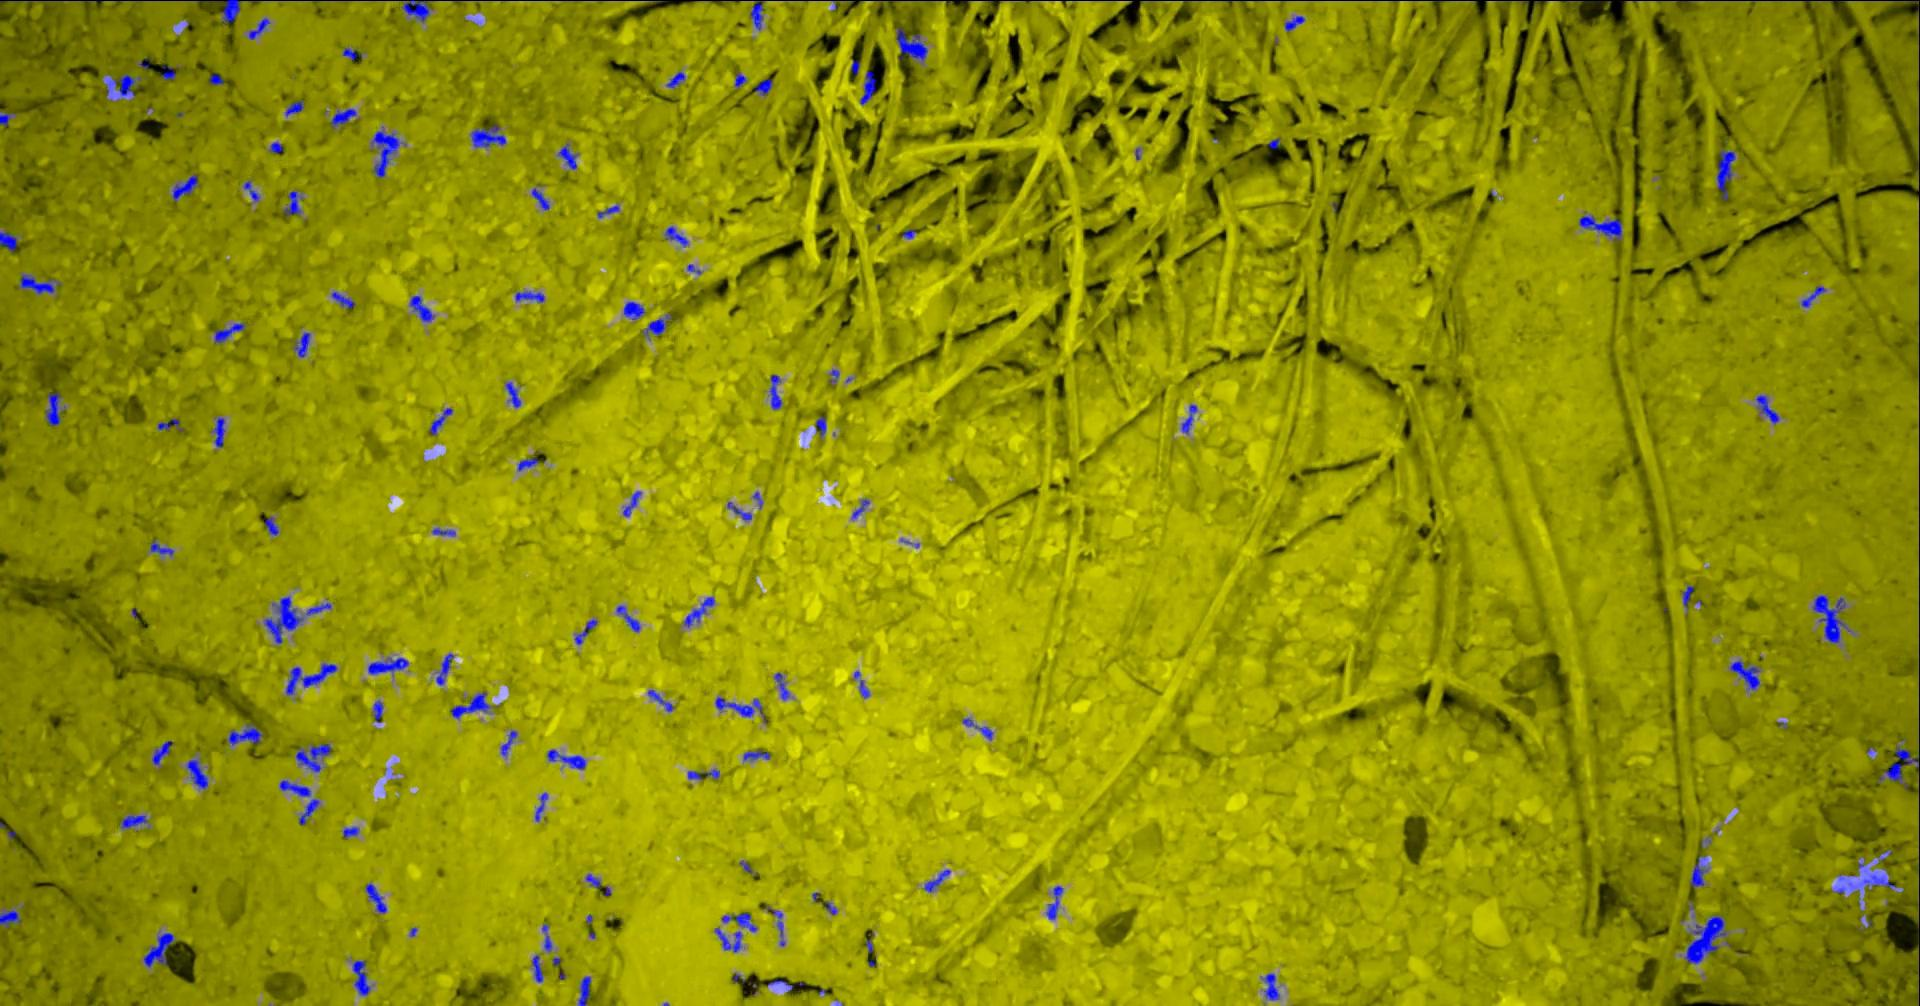ant: (1686, 915, 1728, 963), (265, 596, 305, 643), (373, 126, 408, 177), (1815, 594, 1851, 641), (1879, 746, 1920, 788), (287, 662, 338, 694), (1580, 215, 1623, 240), (897, 27, 930, 60), (452, 691, 491, 718), (145, 932, 175, 967), (684, 596, 716, 627), (297, 743, 333, 771), (197, 0, 243, 22), (1718, 149, 1737, 199), (717, 696, 764, 716), (1731, 661, 1761, 690), (107, 72, 142, 97), (472, 124, 507, 147), (230, 724, 264, 746), (1757, 394, 1782, 424), (549, 749, 587, 768), (370, 657, 410, 674), (173, 174, 199, 201), (964, 716, 994, 739), (403, 0, 434, 22), (20, 274, 56, 293), (723, 912, 758, 931), (430, 406, 455, 434), (367, 883, 389, 913), (47, 391, 66, 426), (411, 295, 436, 321), (617, 605, 641, 631), (716, 927, 743, 951), (354, 959, 372, 995), (216, 323, 246, 343), (649, 688, 676, 711), (924, 869, 951, 892), (188, 760, 210, 788), (1802, 285, 1827, 307), (648, 314, 673, 337), (577, 619, 599, 644), (861, 70, 877, 104), (1048, 885, 1064, 920), (437, 653, 455, 685), (1691, 855, 1709, 887), (1862, 874, 1898, 889), (300, 799, 321, 824), (281, 780, 312, 796), (152, 741, 175, 763), (665, 225, 690, 246), (331, 108, 358, 127), (559, 144, 578, 169), (1263, 973, 1281, 1000), (250, 17, 270, 39), (284, 191, 303, 215), (623, 492, 643, 516), (729, 500, 753, 520), (771, 373, 783, 409), (750, 0, 764, 30), (296, 332, 312, 357), (502, 729, 518, 754), (1183, 404, 1197, 433), (533, 187, 551, 210), (625, 301, 648, 319), (152, 539, 175, 556), (775, 909, 786, 945), (776, 672, 790, 700), (1, 909, 23, 927), (333, 291, 356, 307), (579, 976, 592, 1005), (507, 382, 522, 406), (1, 231, 19, 251), (536, 793, 549, 821), (121, 815, 149, 828), (215, 417, 226, 447), (756, 77, 775, 95), (853, 499, 871, 518), (516, 291, 545, 302), (159, 418, 184, 431), (307, 602, 333, 615), (245, 180, 262, 199), (287, 99, 305, 116), (1286, 15, 1305, 30), (667, 71, 686, 86), (598, 205, 621, 217), (519, 457, 540, 471), (745, 749, 772, 760), (533, 955, 543, 982), (265, 516, 279, 535), (1684, 586, 1695, 608), (343, 47, 363, 60), (543, 923, 552, 951), (433, 527, 457, 536), (587, 873, 602, 887), (344, 826, 361, 838), (817, 415, 827, 436), (163, 65, 177, 79), (375, 700, 383, 721), (861, 680, 871, 697), (737, 71, 748, 86), (210, 72, 225, 84), (1, 112, 13, 127), (270, 141, 284, 152), (1, 0, 65, 1)
